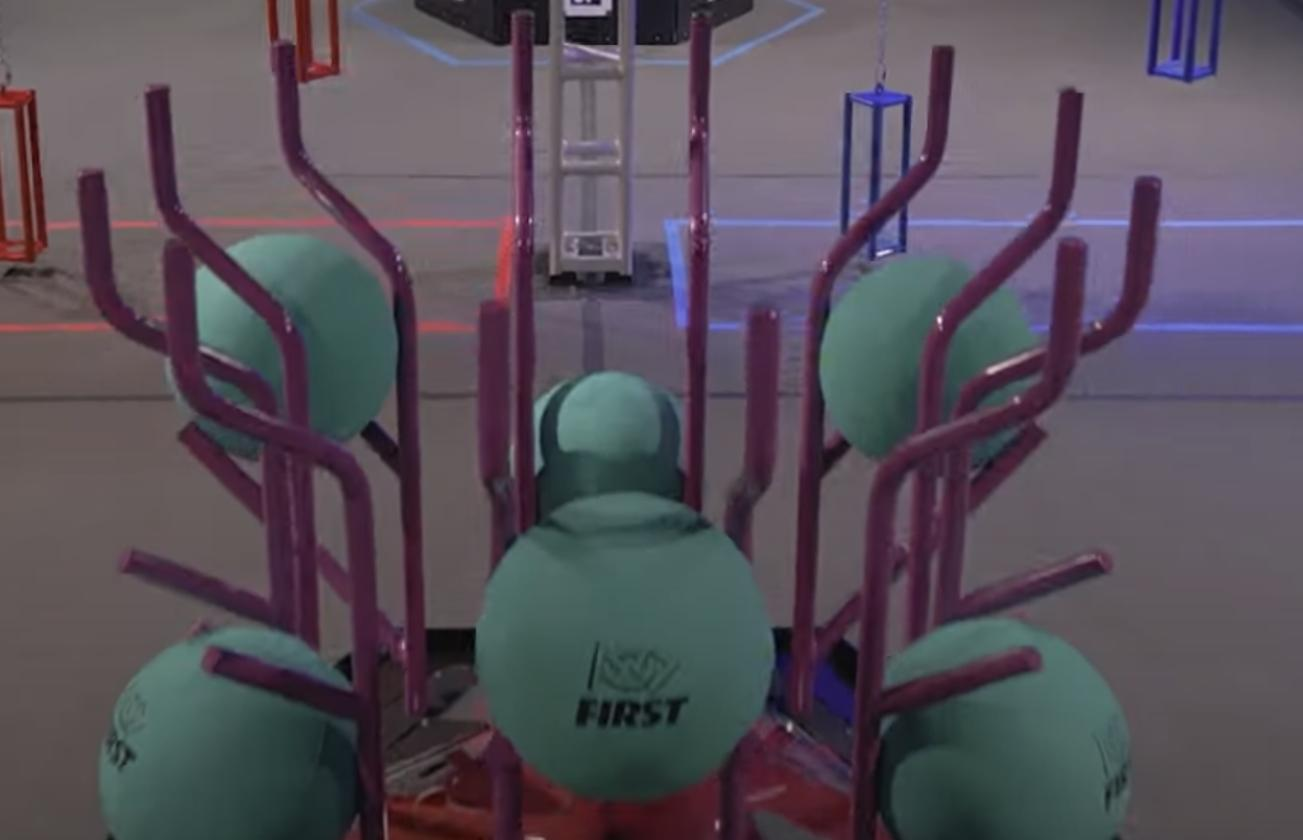algae: (476, 493, 773, 799), (875, 616, 1132, 838), (96, 631, 357, 839), (167, 235, 399, 463), (818, 254, 1042, 461), (522, 370, 683, 506)
